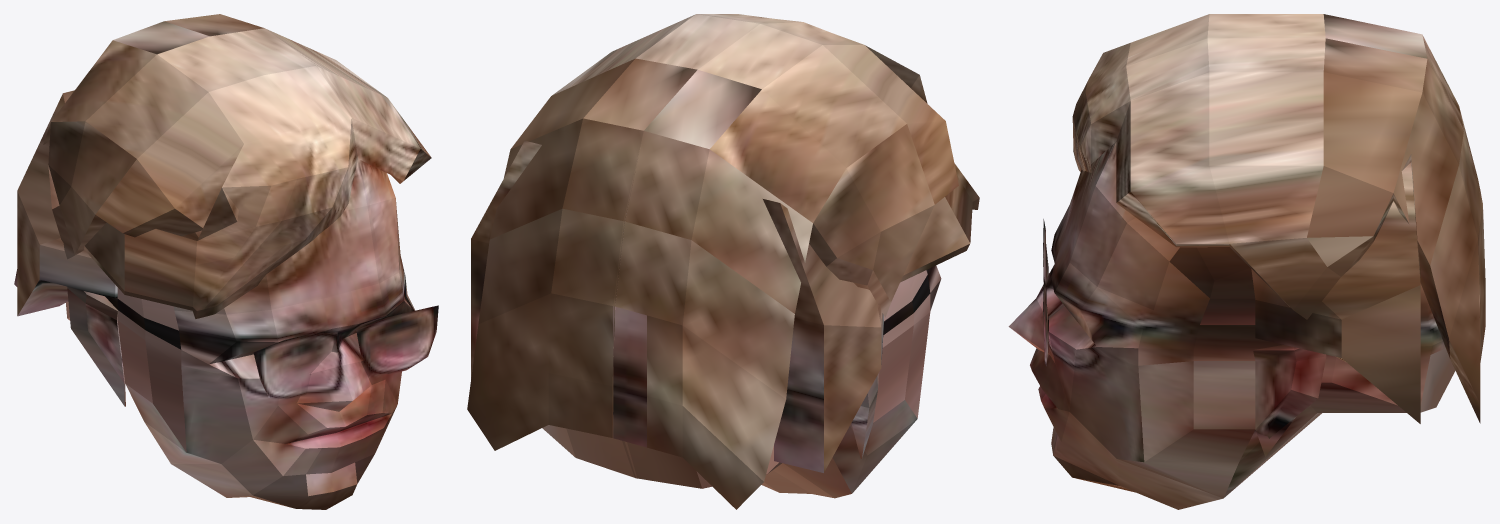
File: joschka.glb
The picture shows the model from 3 angles, left to right: view 1: azimuth 30°, elevation 25°; view 2: azimuth 150°, elevation 25°; view 3: azimuth 270°, elevation 25°; orthographic projection. The views are drawn at different scales.
Parts seen in each view (by area): view 1: Joschka, glass-right, glass-left; view 2: Joschka; view 3: Joschka.
Boxes of the visible parts, x1,y1,x2,y2 form: Joschka: [14, 14, 431, 509]; glass-right: [356, 305, 438, 374]; glass-left: [253, 332, 337, 398]; Joschka: [467, 14, 979, 509]; Joschka: [1008, 14, 1485, 509].
Bounding box in the file's own units: 1.75 × 2.11 × 2.
3 materials, 3 textured.
